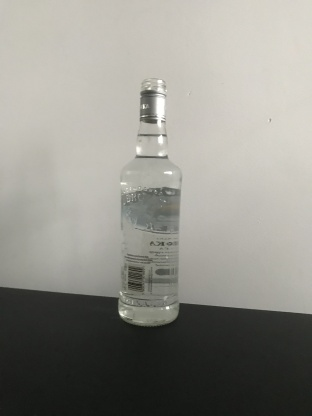nakretka: (138, 76, 168, 124)
